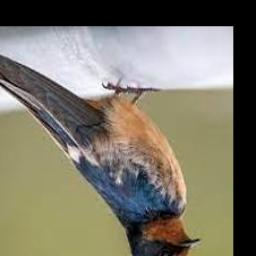Swallow: (0, 49, 199, 256)
